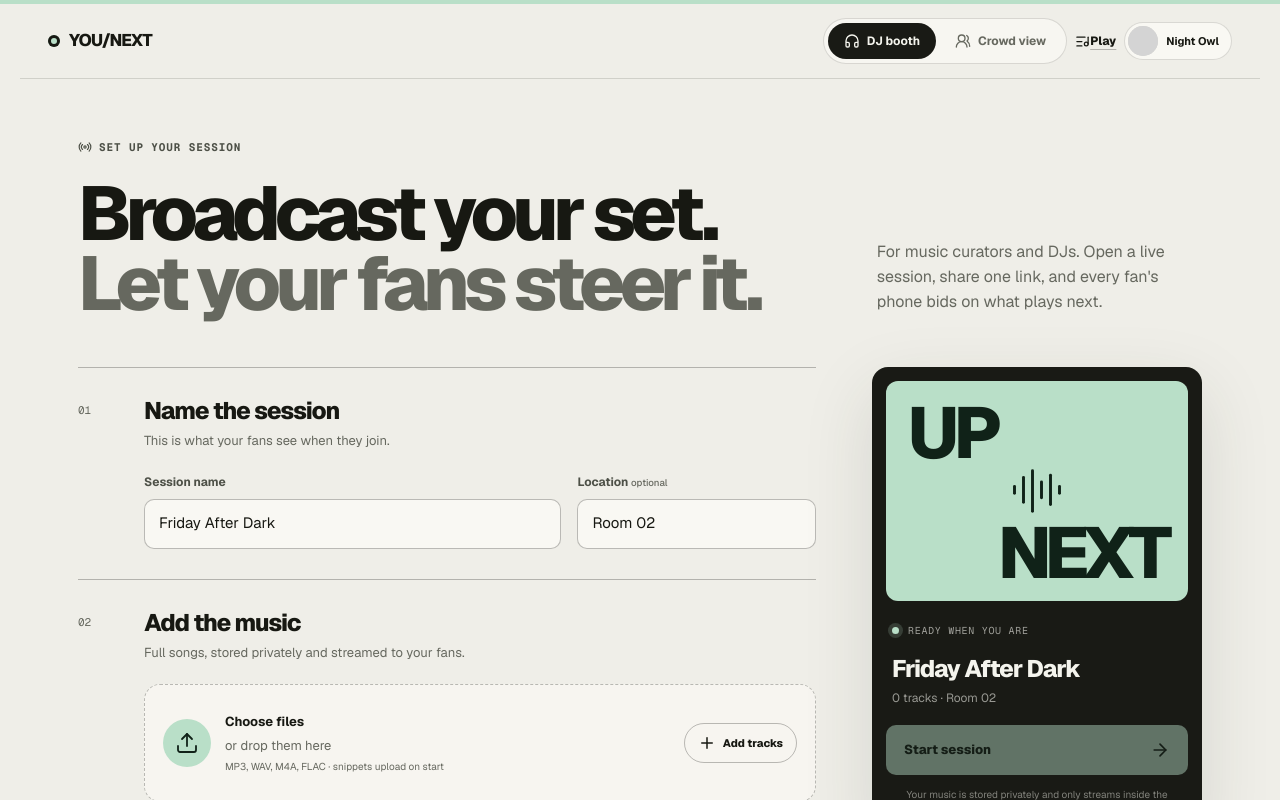
the profile sheet › removes a picture and goes back to the lettered bubble
The width and height of the screenshot is (1280, 800).
Click the button with aria-label "Edit your profile": (1178, 41) x1=1124 y1=22 x2=1232 y2=60
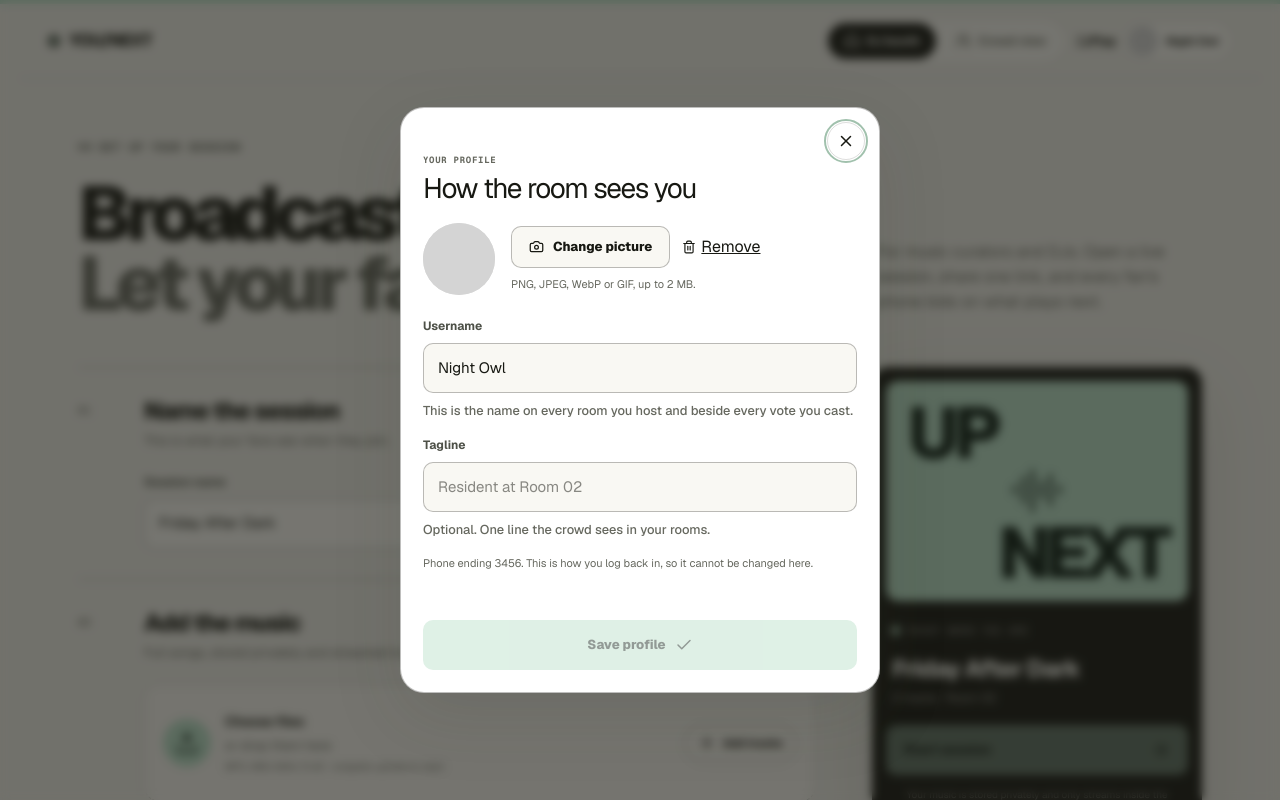
Click the button "Remove": (721, 247) x1=682 y1=235 x2=760 y2=259
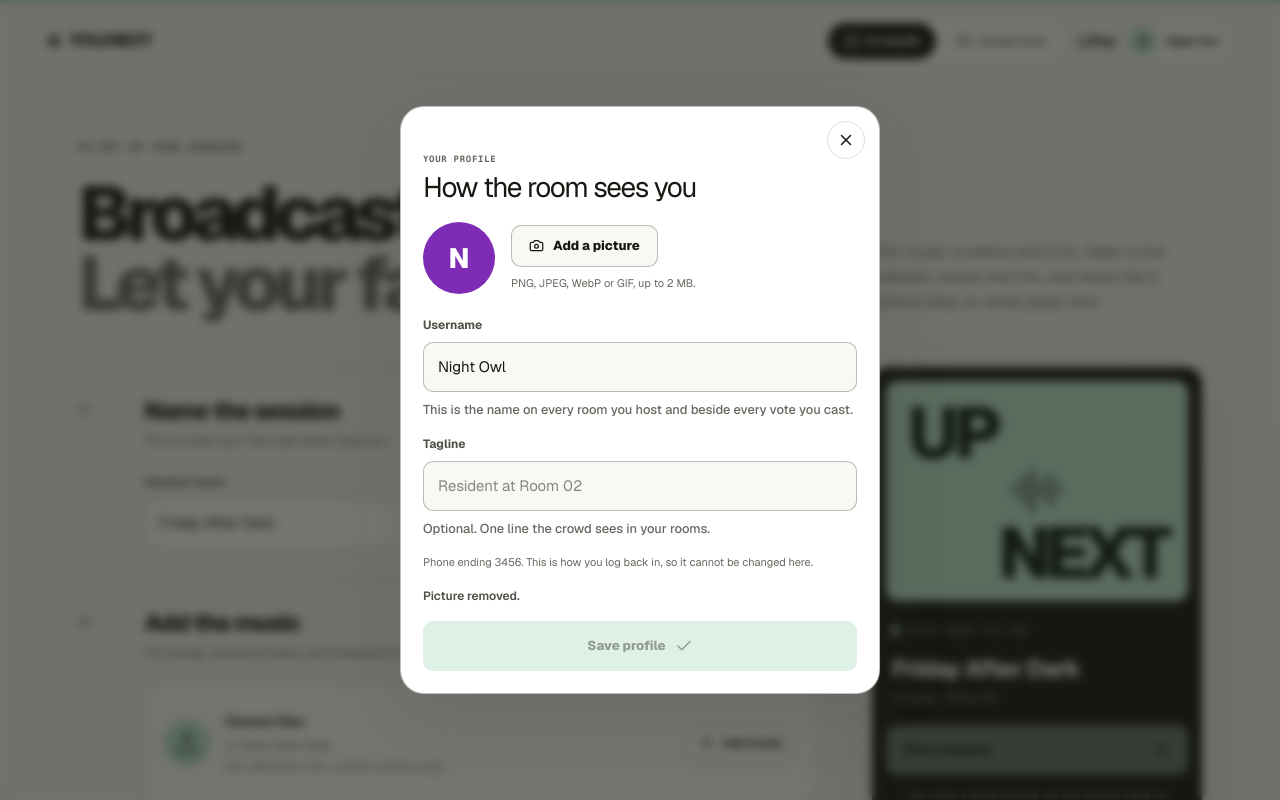
Check: the text "Picture removed." is shown, box x1=423 y1=588 x2=520 y2=604
